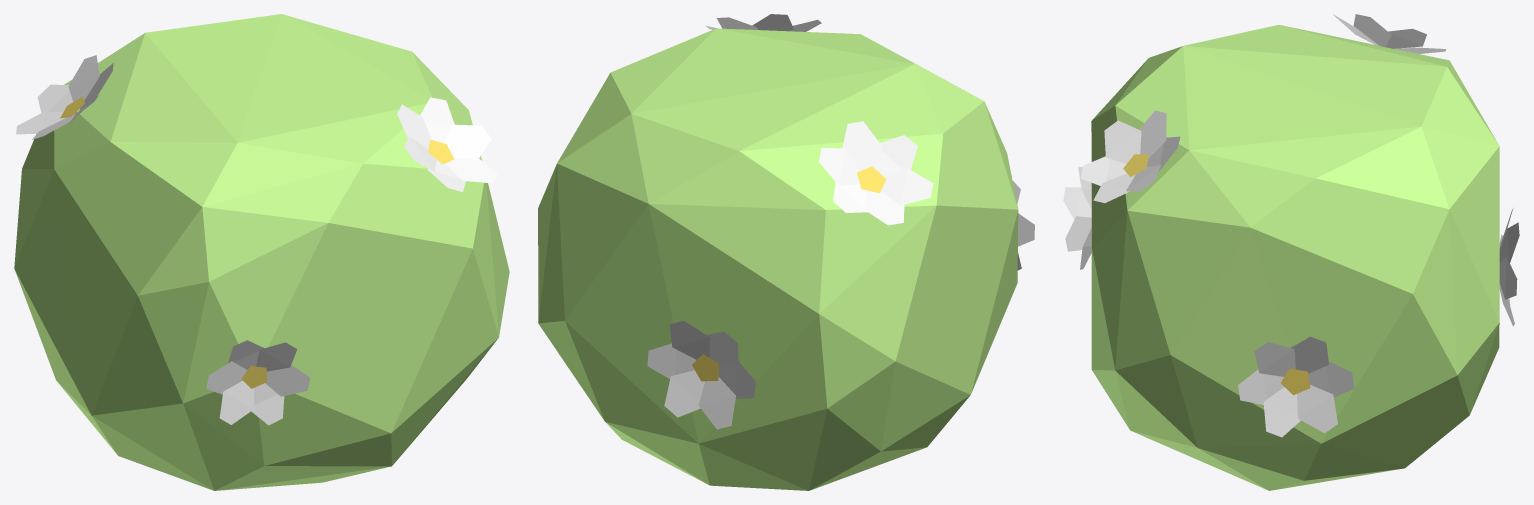
File: FlowerBush_a_m_05.fbx
3 renders of one model, left to right at view 1: azimuth 30°, elevation 25°; view 2: azimuth 150°, elevation 25°; view 3: azimuth 270°, elevation 25°, orthographic. The views are drawn at different scales.
Visible parts, largest first — view 1: FlowerBush_a_m_05; view 2: FlowerBush_a_m_05; view 3: FlowerBush_a_m_05.
Boxes of the visible parts, x1,y1,x2,y2 form: FlowerBush_a_m_05: (14, 14, 509, 490); FlowerBush_a_m_05: (538, 14, 1034, 490); FlowerBush_a_m_05: (1063, 14, 1519, 490).
Bounding box in the file's own units: 126 × 124 × 131.
